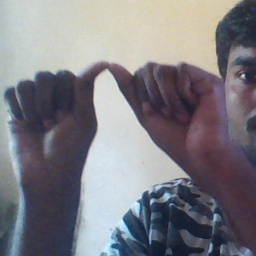A: (25, 50, 193, 153)
